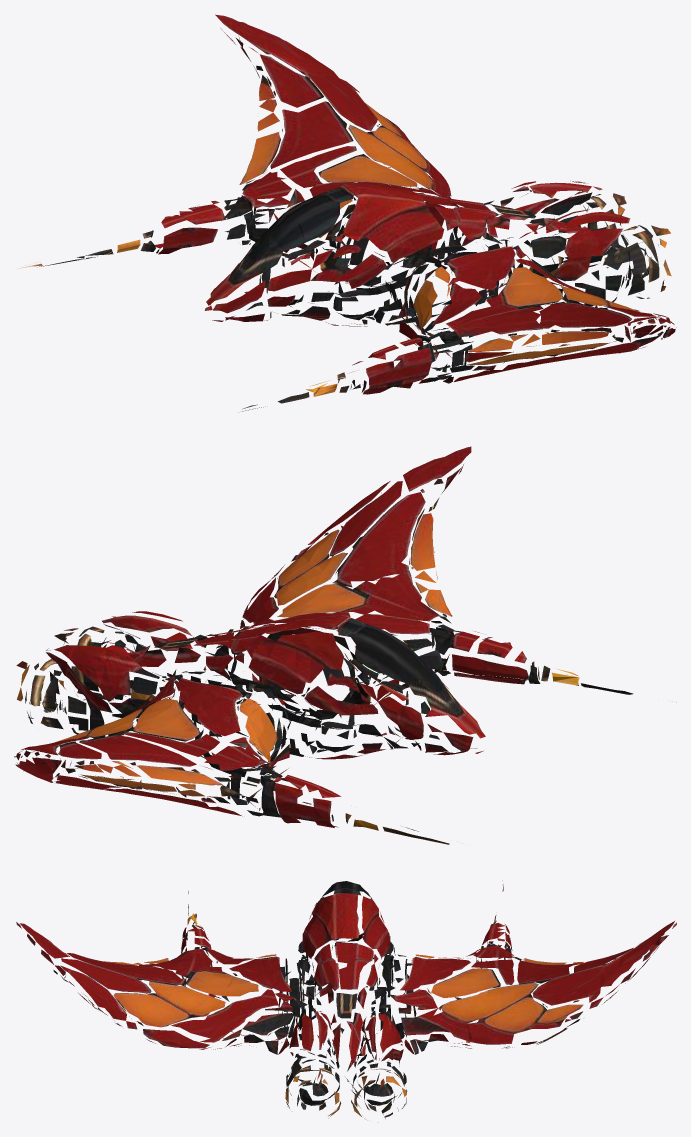
3 views of the same model, one above another, from view 1: azimuth 30°, elevation 25°; view 2: azimuth 150°, elevation 25°; view 3: azimuth 270°, elevation 25° (orthographic). The views are drawn at different scales.
Bounding box in the file's own units: 1.4 × 0.3958 × 1.89.
Materials: 1 (1 with a texture image).
